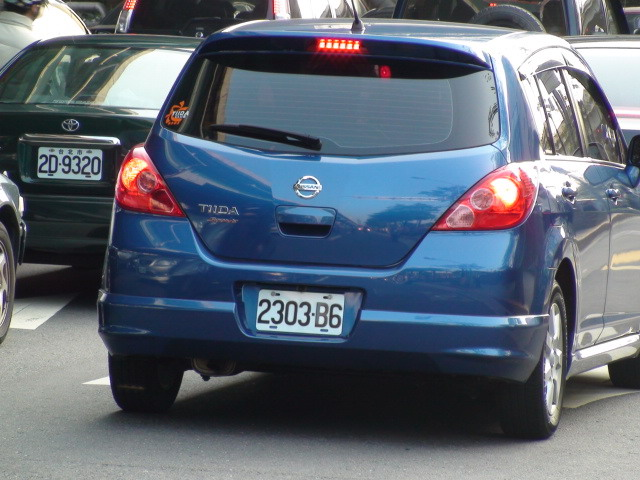plate: (256, 284, 346, 341), (34, 142, 104, 184)
